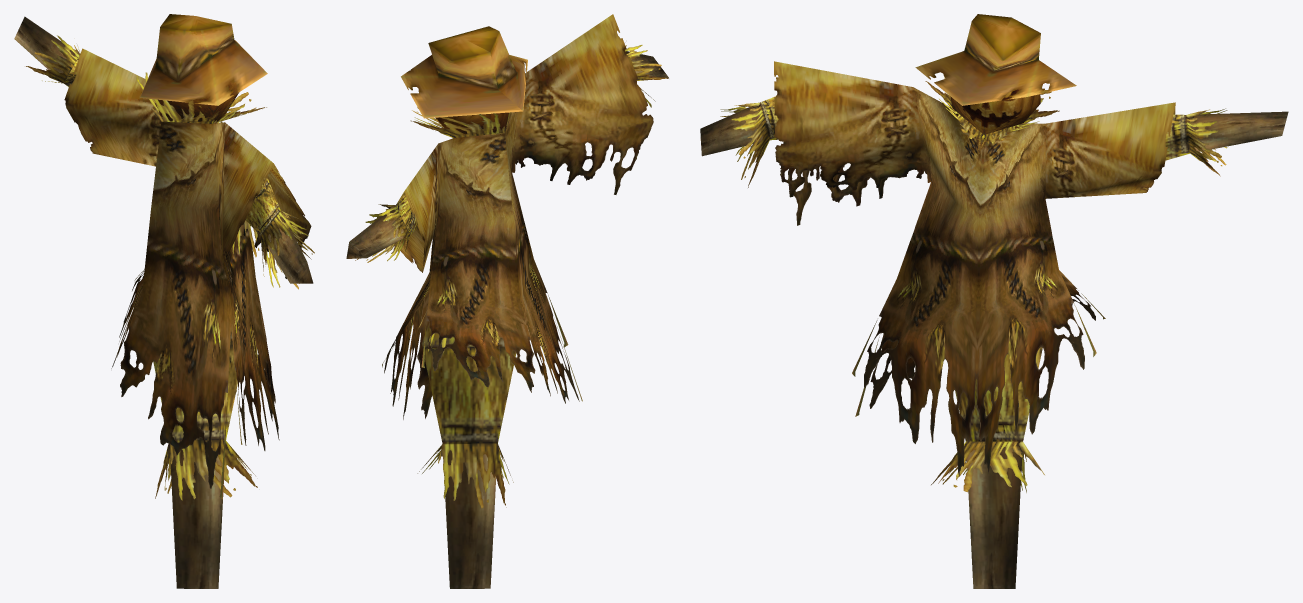
File: westfallscarecrow.glb
3 renders of one model, left to right at view 1: azimuth 30°, elevation 25°; view 2: azimuth 150°, elevation 25°; view 3: azimuth 270°, elevation 25°, orthographic. The views are drawn at different scales.
Size of the model in its own units: 1.2 by 3.87 by 3.69.
1 material, 1 textured.
